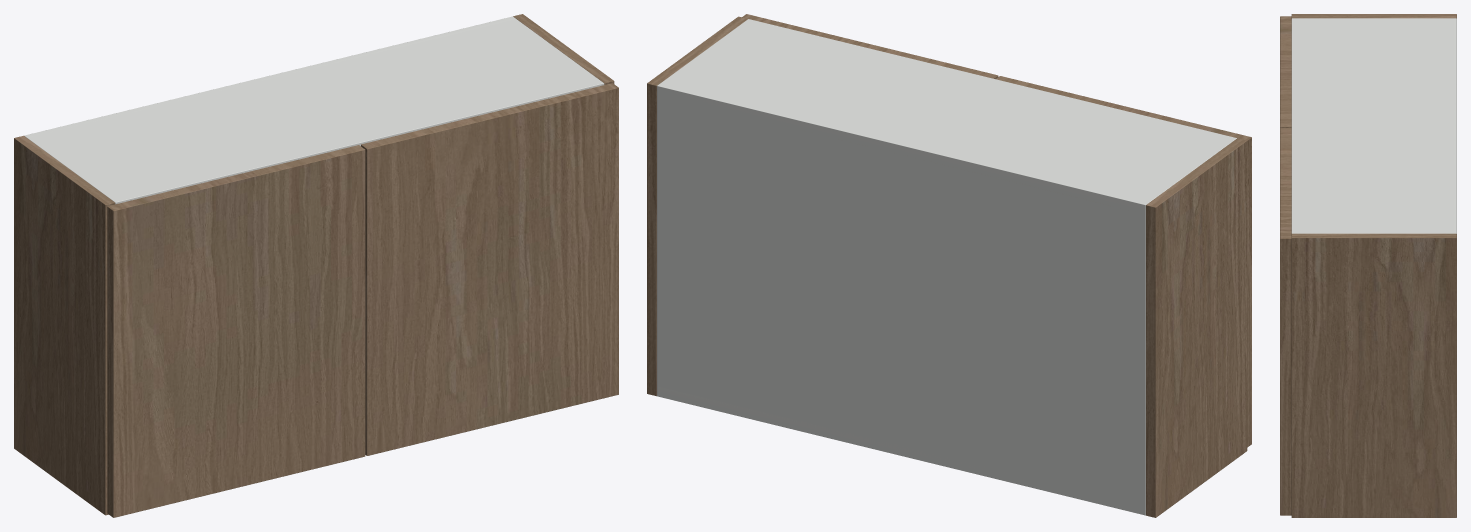
The model's file is oppein-pb-mnw-w3621.glb.
The picture shows the model from 3 angles, left to right: view 1: azimuth 30°, elevation 25°; view 2: azimuth 150°, elevation 25°; view 3: azimuth 270°, elevation 25°; orthographic projection. The views are drawn at different scales.
Visible parts, largest first — view 1: Door, Door.001, Cabinet top, Cabinet side, Cabinet back, Cabinet side.001; view 2: Cabinet back, Cabinet top, Cabinet side, Cabinet side.001, Door, Cabinet bottom, Door.001; view 3: Cabinet side.001, Cabinet top, Door.001, Cabinet back, Door, Cabinet side.
Boxes of the visible parts, x1,y1,x2,y2 form: Door: (107, 145, 365, 517); Door.001: (361, 83, 618, 455); Cabinet top: (24, 17, 604, 204); Cabinet side: (14, 135, 115, 515); Cabinet back: (24, 16, 515, 137); Cabinet side.001: (513, 14, 614, 84); Cabinet back: (657, 83, 1148, 515); Cabinet top: (657, 19, 1236, 214); Cabinet side: (1146, 138, 1247, 517); Cabinet side.001: (647, 16, 747, 396); Door: (996, 76, 1251, 447); Cabinet bottom: (657, 386, 1145, 513); Door.001: (742, 14, 998, 78); Cabinet side.001: (1291, 233, 1456, 517); Cabinet top: (1291, 18, 1456, 233); Door.001: (1280, 128, 1291, 515); Cabinet back: (1450, 18, 1456, 233); Door: (1280, 16, 1291, 127); Cabinet side: (1291, 14, 1456, 18).
Bounding box in the file's own units: 0.9144 × 0.5334 × 0.3048.
2 materials, 1 textured.
